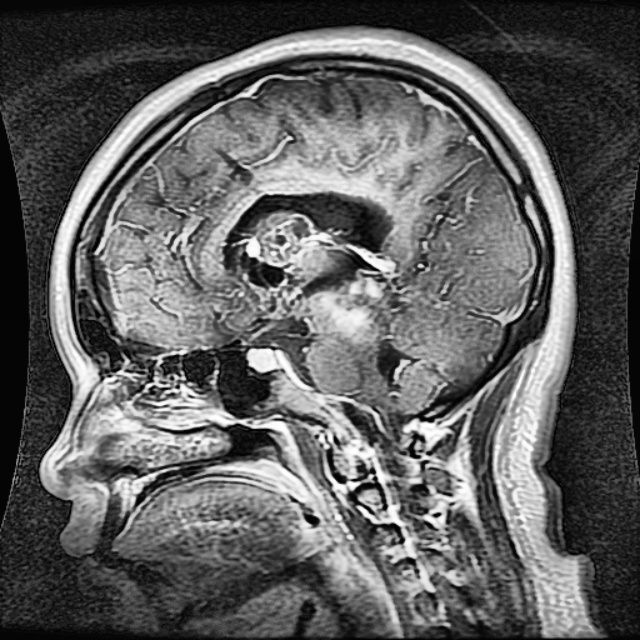Meningioma: (250, 212, 395, 330)
